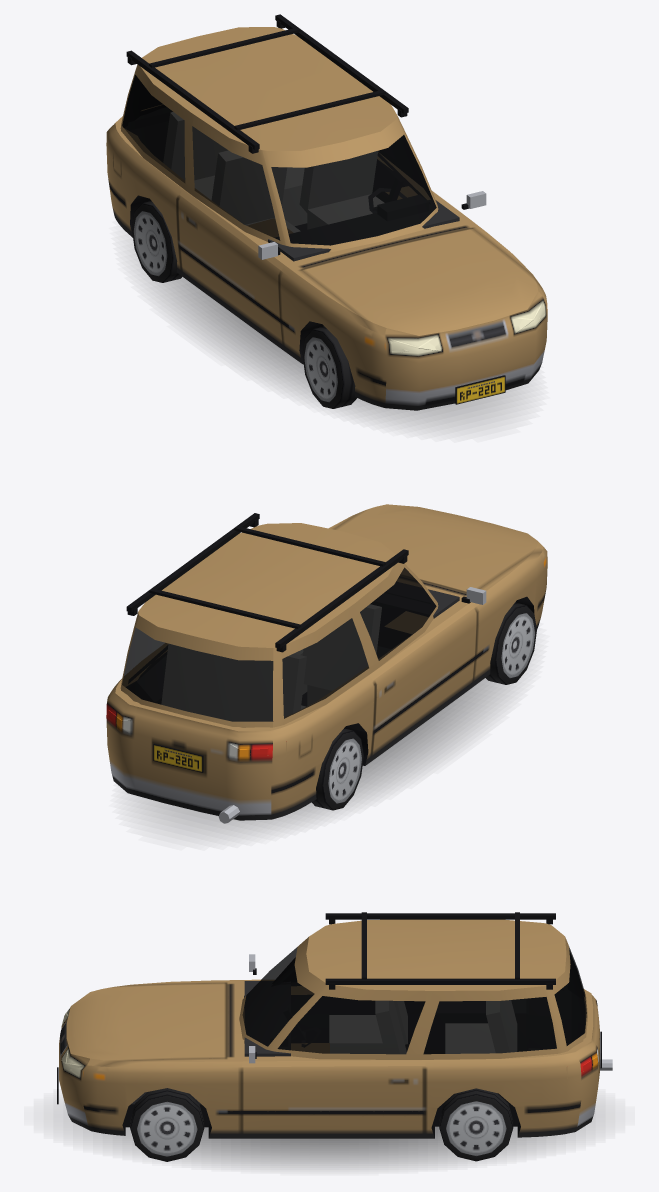
The model's file is rapadura.glb.
3 renders of one model, top to bottom at view 1: azimuth 30°, elevation 25°; view 2: azimuth 150°, elevation 25°; view 3: azimuth 270°, elevation 25°, orthographic. The views are drawn at different scales.
Parts seen in each view (by area): view 1: Carroceria, Interior, Capo_malha, Porta_D_malha, Sombra, Roda_DD, Roda_TD, Porta_E_malha, Tampa_malha; view 2: Carroceria, Tampa_malha, Interior, Porta_D_malha, Capo_malha, Sombra, Roda_TD, Roda_DD, Lanterna; view 3: Carroceria, Porta_E_malha, Interior, Capo_malha, Sombra, Roda_DE, Roda_TE, Tampa_malha.
Boxes of the visible parts, x1,y1,x2,y2 form: Carroceria: [106, 14, 547, 410]; Interior: [125, 108, 459, 326]; Capo_malha: [300, 228, 543, 335]; Porta_D_malha: [177, 115, 285, 341]; Sombra: [139, 263, 520, 427]; Roda_DD: [302, 326, 356, 408]; Roda_TD: [132, 201, 182, 282]; Porta_E_malha: [378, 116, 486, 209]; Tampa_malha: [123, 75, 165, 127]; Carroceria: [106, 506, 547, 823]; Tampa_malha: [121, 615, 273, 798]; Interior: [126, 582, 515, 720]; Porta_D_malha: [357, 562, 486, 753]; Capo_malha: [333, 504, 543, 592]; Sombra: [138, 678, 511, 835]; Roda_TD: [312, 728, 363, 810]; Roda_DD: [485, 602, 536, 684]; Lanterna: [108, 710, 286, 757]; Carroceria: [57, 912, 612, 1138]; Porta_E_malha: [242, 985, 425, 1130]; Interior: [131, 966, 584, 1104]; Capo_malha: [72, 982, 226, 1066]; Sombra: [63, 1104, 595, 1167]; Roda_DE: [130, 1088, 204, 1161]; Roda_TE: [439, 1088, 513, 1161]; Tampa_malha: [553, 937, 601, 1081].
Size of the model in its own units: 2.26 by 1.5 by 4.9.
Materials: 12 (6 with a texture image).
